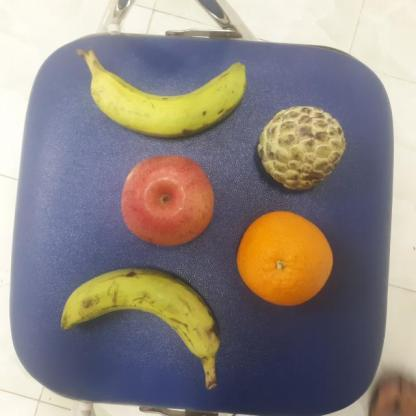annona: (253, 101, 348, 193)
apple: (120, 154, 215, 248)
banana: (59, 267, 223, 359), (84, 59, 248, 139)
orange: (236, 211, 333, 308)
